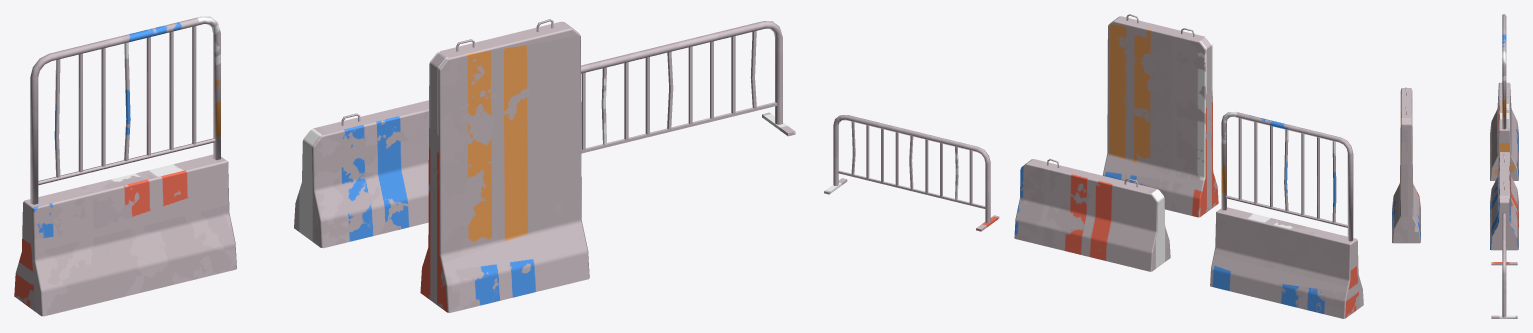
Rendered from Fences_LOD_ALL.fbx.
3 renders of one model, left to right at view 1: azimuth 30°, elevation 25°; view 2: azimuth 150°, elevation 25°; view 3: azimuth 270°, elevation 25°, orthographic. The views are drawn at different scales.
Parts seen in each view (by area): view 1: Fence_4_LOD0, Fence_3_LOD0, Fence_2_LOD0, Fence_1_LOD0; view 2: Fence_4_LOD0, Fence_3_LOD0, Fence_2_LOD0, Fence_1_LOD0; view 3: Fence_4_LOD0, Fence_3_LOD0, Fence_2_LOD0, Fence_1_LOD0.
Part boxes in pixels (left/top/right/bottom): Fence_4_LOD0: left=420, top=19, right=589, bottom=312; Fence_3_LOD0: left=14, top=16, right=236, bottom=316; Fence_2_LOD0: left=294, top=100, right=428, bottom=248; Fence_1_LOD0: left=581, top=21, right=795, bottom=153; Fence_4_LOD0: left=1102, top=14, right=1218, bottom=217; Fence_3_LOD0: left=1210, top=112, right=1363, bottom=318; Fence_2_LOD0: left=1014, top=159, right=1170, bottom=271; Fence_1_LOD0: left=824, top=115, right=999, bottom=231; Fence_4_LOD0: left=1392, top=87, right=1420, bottom=243; Fence_3_LOD0: left=1490, top=14, right=1518, bottom=180; Fence_2_LOD0: left=1490, top=152, right=1518, bottom=250; Fence_1_LOD0: left=1491, top=213, right=1517, bottom=318.
Size of what is drawn, in the model's own units: 1059 by 346 by 309.
Materials: 1 (1 with a texture image).
